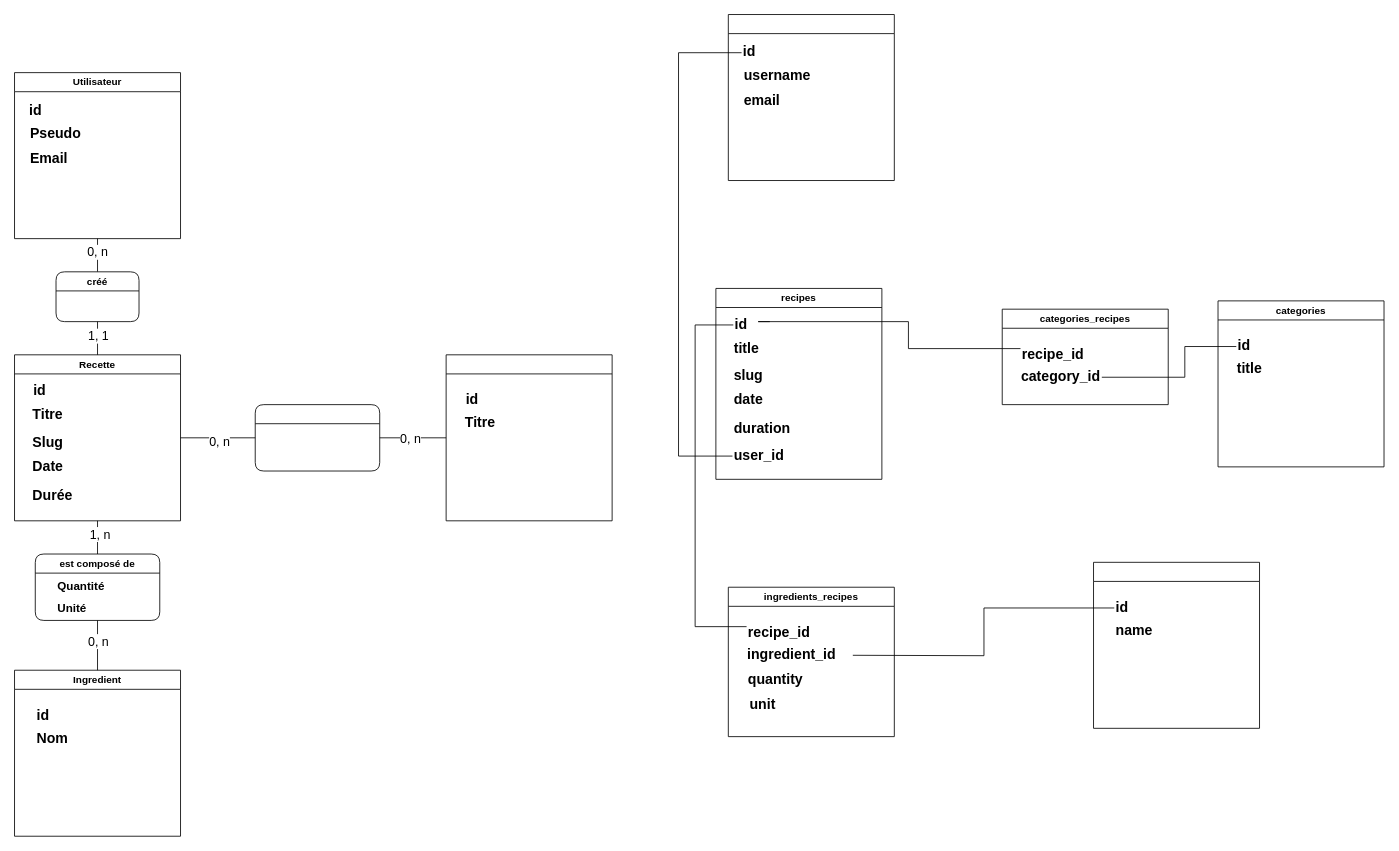
This 1399x851 diagram has some shape labels left out. The shapes that lost their labels are listed below. From the top down, each one's box as (x1, y1, x2, y2) in pixels, then its label:
(727, 14, 894, 181): users
(254, 404, 380, 471): Appartient
(445, 354, 612, 521): Categorie
(1093, 561, 1260, 728): ingredients
